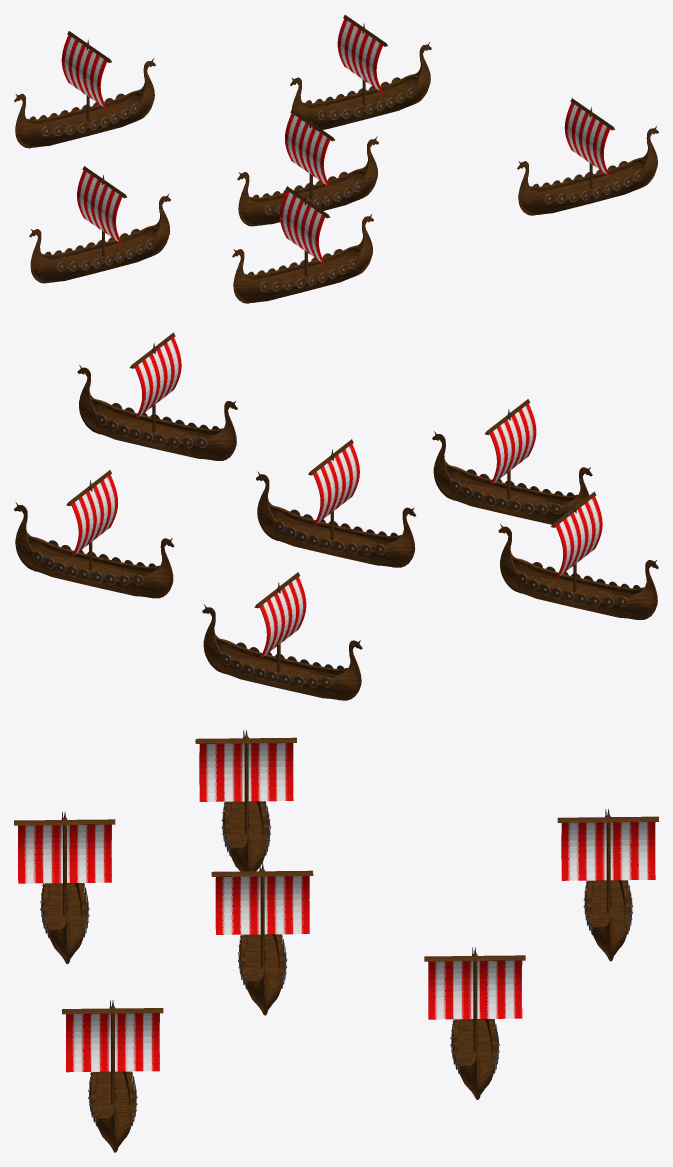
File: embarcacion.fbx
3 renders of one model, top to bottom at view 1: azimuth 30°, elevation 25°; view 2: azimuth 150°, elevation 25°; view 3: azimuth 270°, elevation 25°, orthographic. The views are drawn at different scales.
Visible parts, largest first — view 1: Cuerpo.005, Cuerpo.008, Cuerpo.007, Cuerpo.006, Cuerpo.004, Cuerpo.002, Vela.006, Vela.004, Vela.007, Vela.002, Vela.008, Vela.005; view 2: Cuerpo.004, Cuerpo.006, Cuerpo.002, Cuerpo.007, Cuerpo.005, Cuerpo.008, Vela.005, Vela.006, Vela.007, Vela.008, Vela.004, Vela.002; view 3: Vela.006, Vela.007, Vela.002, Vela.004, Vela.008, Vela.005, Cuerpo.002, Cuerpo.006, Cuerpo.004, Cuerpo.005, Cuerpo.007, Cuerpo.008.
Part boxes in pixels (<box>): Cuerpo.005: <box>517,107,658,215</box>; Cuerpo.008: <box>232,195,373,303</box>; Cuerpo.007: <box>29,174,170,283</box>; Cuerpo.006: <box>14,39,155,148</box>; Cuerpo.004: <box>290,23,431,129</box>; Cuerpo.002: <box>237,118,378,226</box>; Vela.006: <box>61,31,111,109</box>; Vela.004: <box>337,15,387,92</box>; Vela.007: <box>77,166,127,244</box>; Vela.002: <box>285,109,335,187</box>; Vela.008: <box>280,186,330,264</box>; Vela.005: <box>564,98,614,176</box>; Cuerpo.004: <box>14,480,174,598</box>; Cuerpo.006: <box>202,582,362,700</box>; Cuerpo.002: <box>256,449,416,567</box>; Cuerpo.007: <box>498,501,658,619</box>; Cuerpo.005: <box>77,342,237,460</box>; Cuerpo.008: <box>432,409,592,524</box>; Vela.005: <box>130,332,181,419</box>; Vela.006: <box>254,572,306,659</box>; Vela.007: <box>551,491,602,578</box>; Vela.008: <box>485,399,536,485</box>; Vela.004: <box>66,470,118,557</box>; Vela.002: <box>308,439,359,526</box>; Vela.006: <box>557,816,658,880</box>; Vela.007: <box>195,737,296,801</box>; Vela.002: <box>211,870,313,934</box>; Vela.004: <box>424,955,525,1019</box>; Vela.008: <box>14,819,115,883</box>; Vela.005: <box>62,1008,163,1072</box>; Cuerpo.002: <box>238,862,287,1015</box>; Cuerpo.006: <box>583,809,632,961</box>; Cuerpo.004: <box>450,947,499,1099</box>; Cuerpo.005: <box>88,1000,137,1152</box>; Cuerpo.007: <box>221,730,271,871</box>; Cuerpo.008: <box>40,811,89,964</box>.
Size of the model in its own units: 4936 by 778 by 3746.
Materials: 4 (4 with a texture image).
